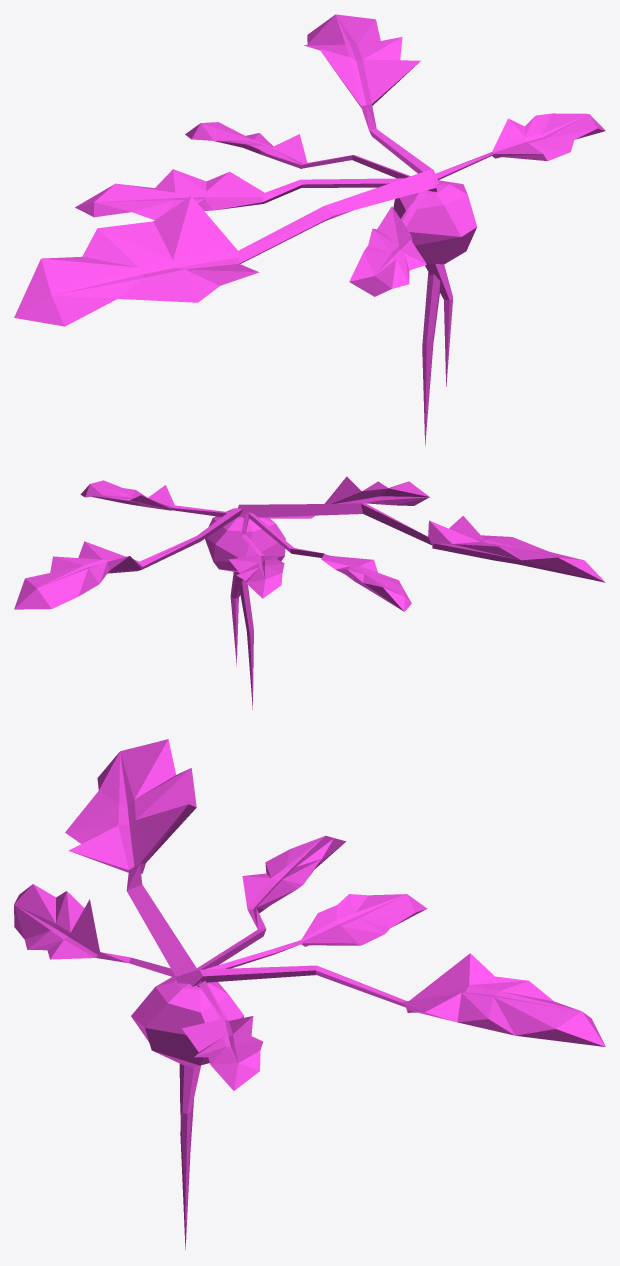
Rendered from SM_Beetroot_Plant_Dead_Root.fbx.
3 views of the same model, one above another, from view 1: azimuth 30°, elevation 25°; view 2: azimuth 150°, elevation 25°; view 3: azimuth 270°, elevation 25° (orthographic). The views are drawn at different scales.
Visible parts, largest first — view 1: SM_Beetroot_Plant_Dead_Root; view 2: SM_Beetroot_Plant_Dead_Root; view 3: SM_Beetroot_Plant_Dead_Root.
Boxes of the visible parts, left/top/right/bottom form: SM_Beetroot_Plant_Dead_Root: left=14, top=14, right=605, bottom=445; SM_Beetroot_Plant_Dead_Root: left=14, top=476, right=605, bottom=709; SM_Beetroot_Plant_Dead_Root: left=14, top=739, right=605, bottom=1249.
Size of the model in its own units: 1.13 by 0.5185 by 0.8505.
